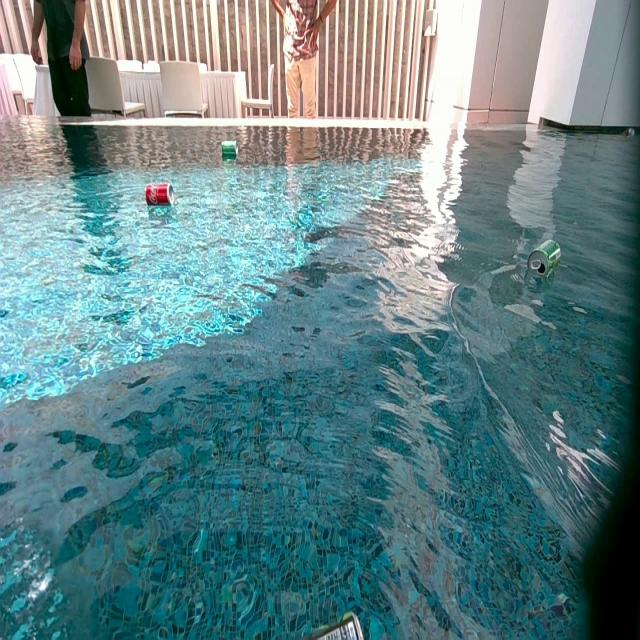Cans: (527, 240, 560, 282), (147, 185, 175, 208), (221, 141, 237, 157)
